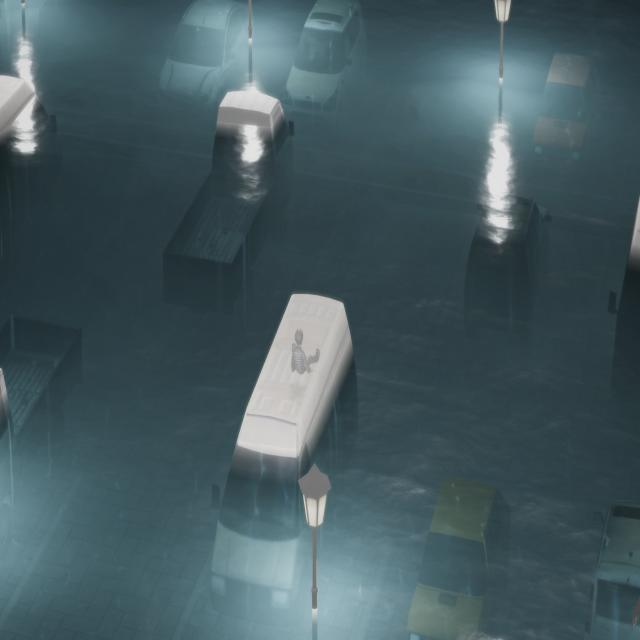Human: (287, 330, 323, 386)
